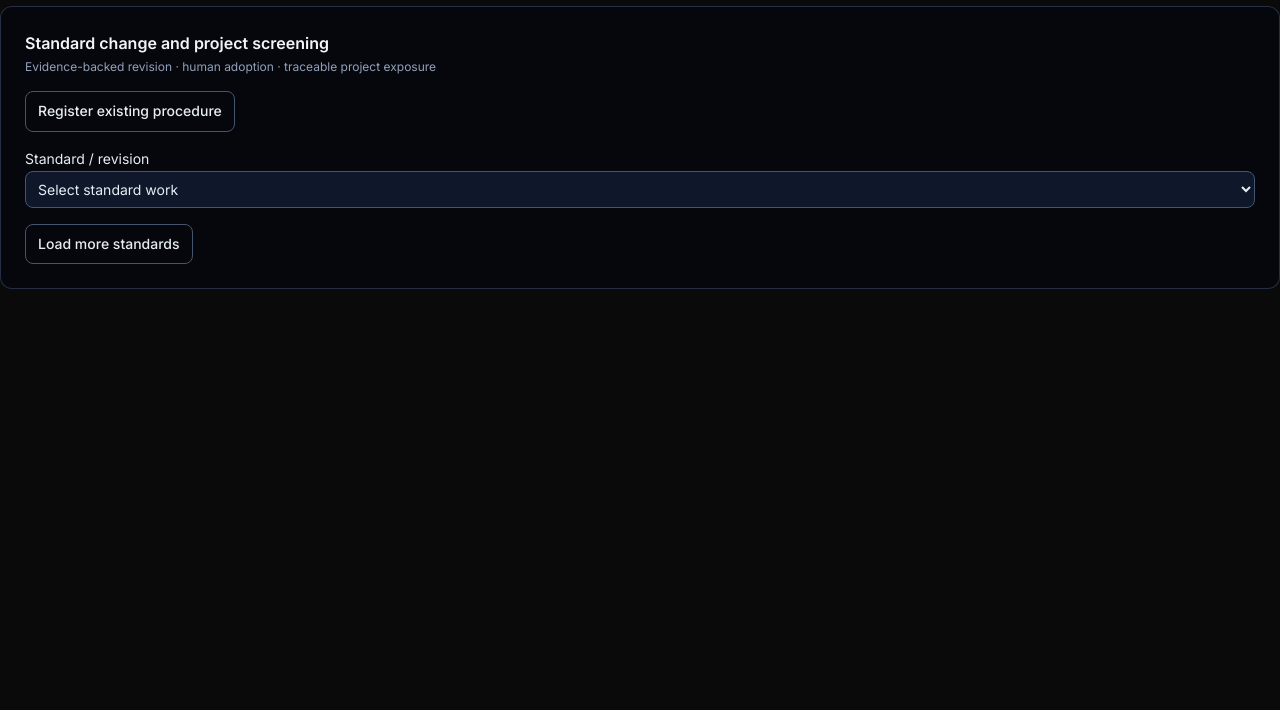
Test: routes an explicitly classified procedure to the governed safety request
Select "estimate · v1 · Estimate review · Baseline" in the dropdown labelled "Standard / revision" at (640, 189), box [25,170,1255,208]
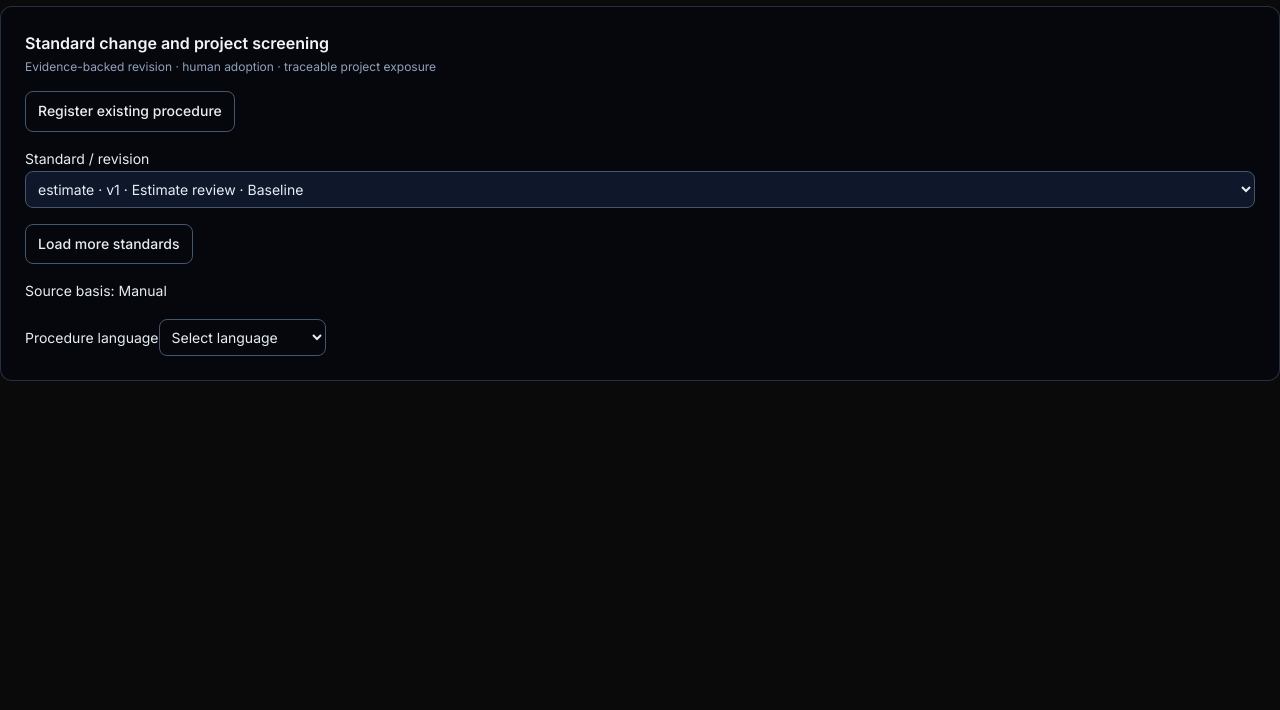
Select "en · human_verified" in the dropdown labelled "Procedure language" at (242, 338), box [158,319,326,356]
(page scrolled)
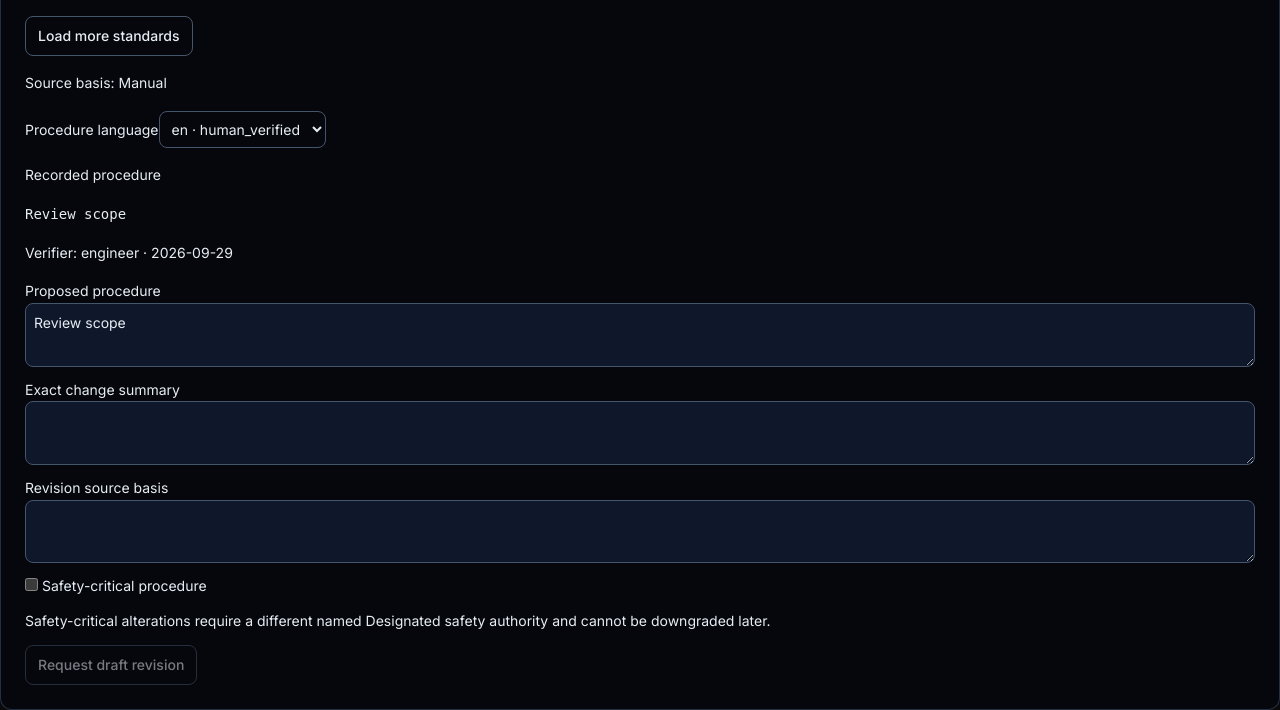
Click the checkbox labelled "Safety-critical procedure".
click(32, 584)  # box [25,578,38,591]
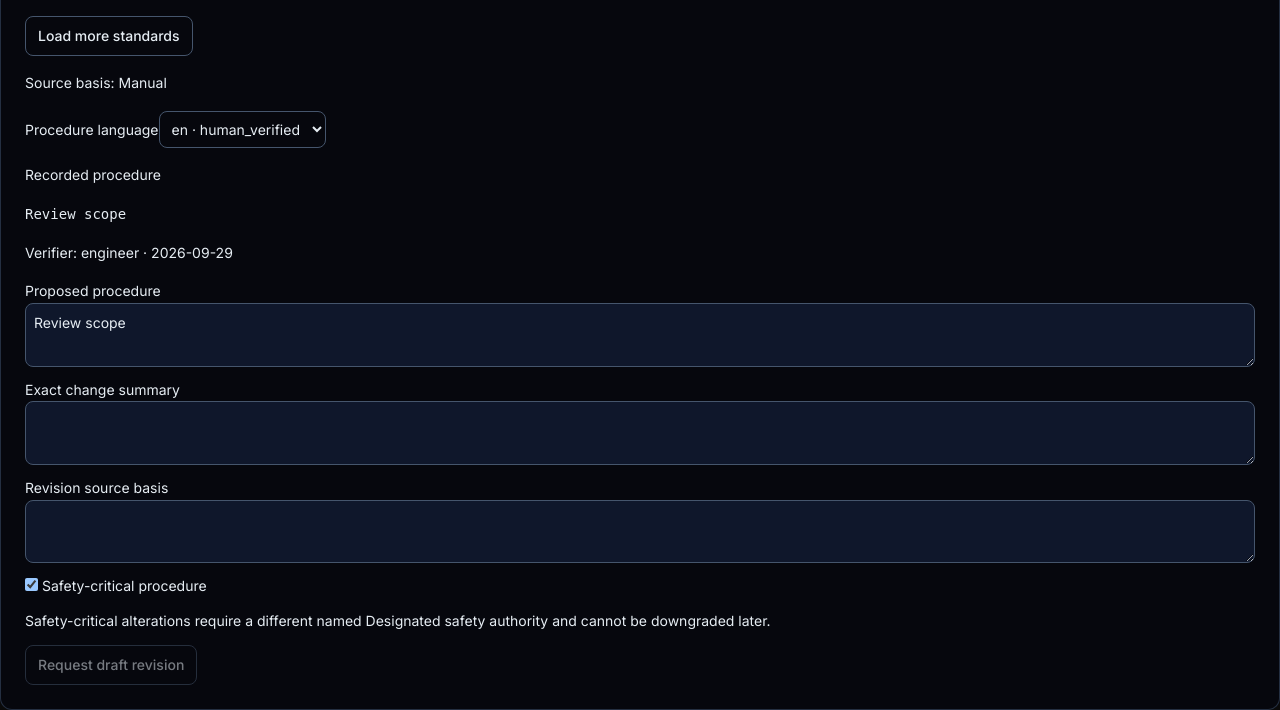
Replace the text in the text box labelled "Proposed procedure" with "Controlled isolation" at (640, 335), box [25,303,1255,366]
Type "Add isolation hold point" into the text box labelled "Exact change summary".
click(640, 433); type("Add isolation hold point")  # box [25,401,1255,465]
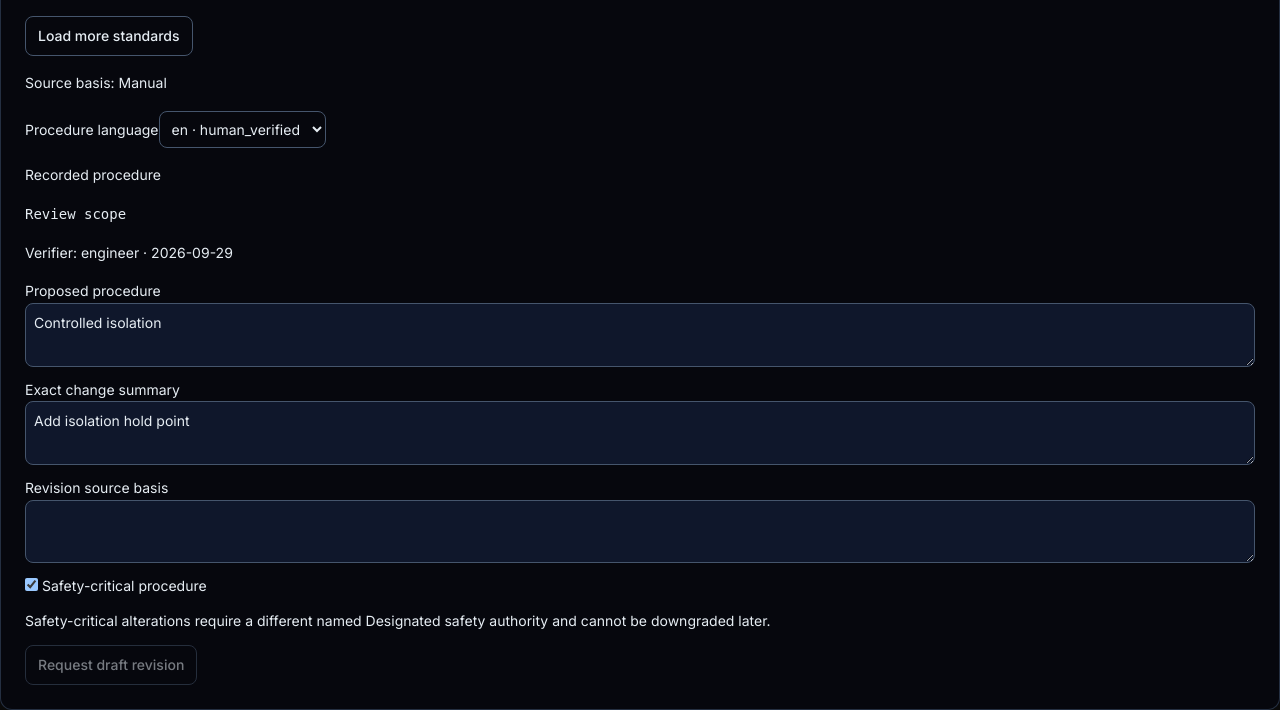
Type "Verified protective-system evidence" into the text box labelled "Revision source basis".
click(640, 531); type("Verified protective-system evidence")  # box [25,500,1255,563]
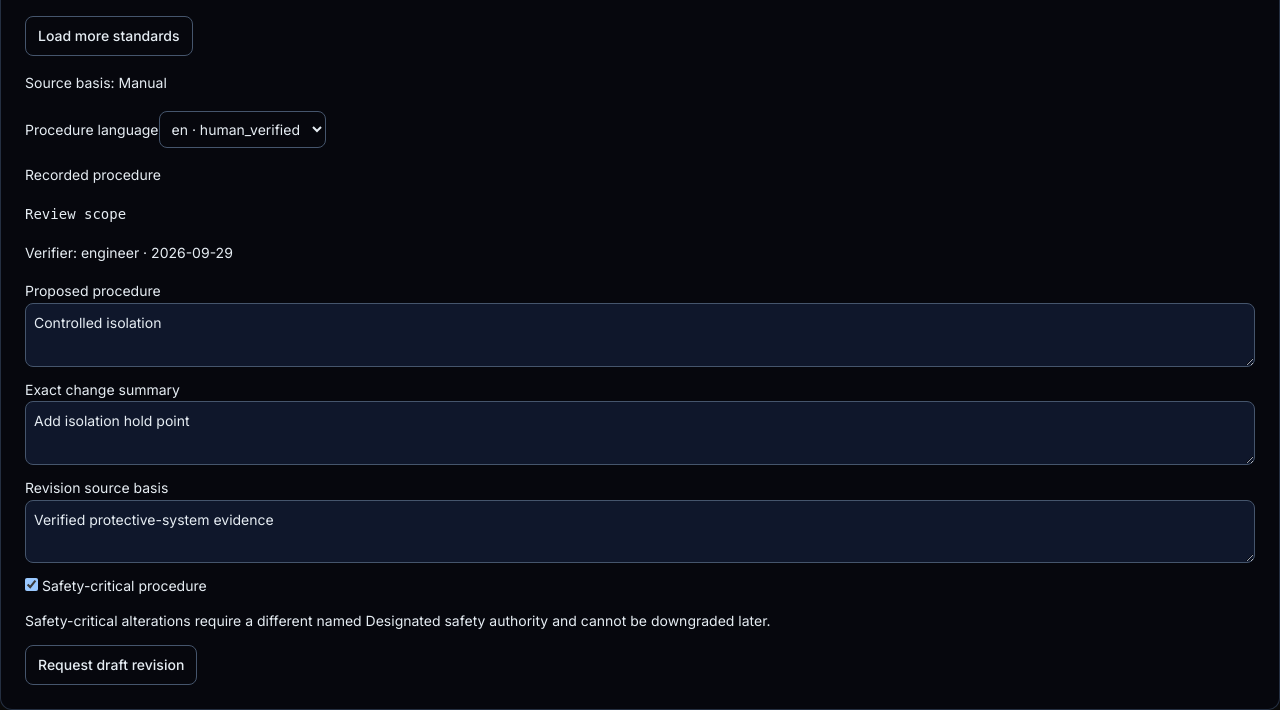
Click the button "Request draft revision".
click(111, 665)  # box [25,644,197,685]
(page scrolled)
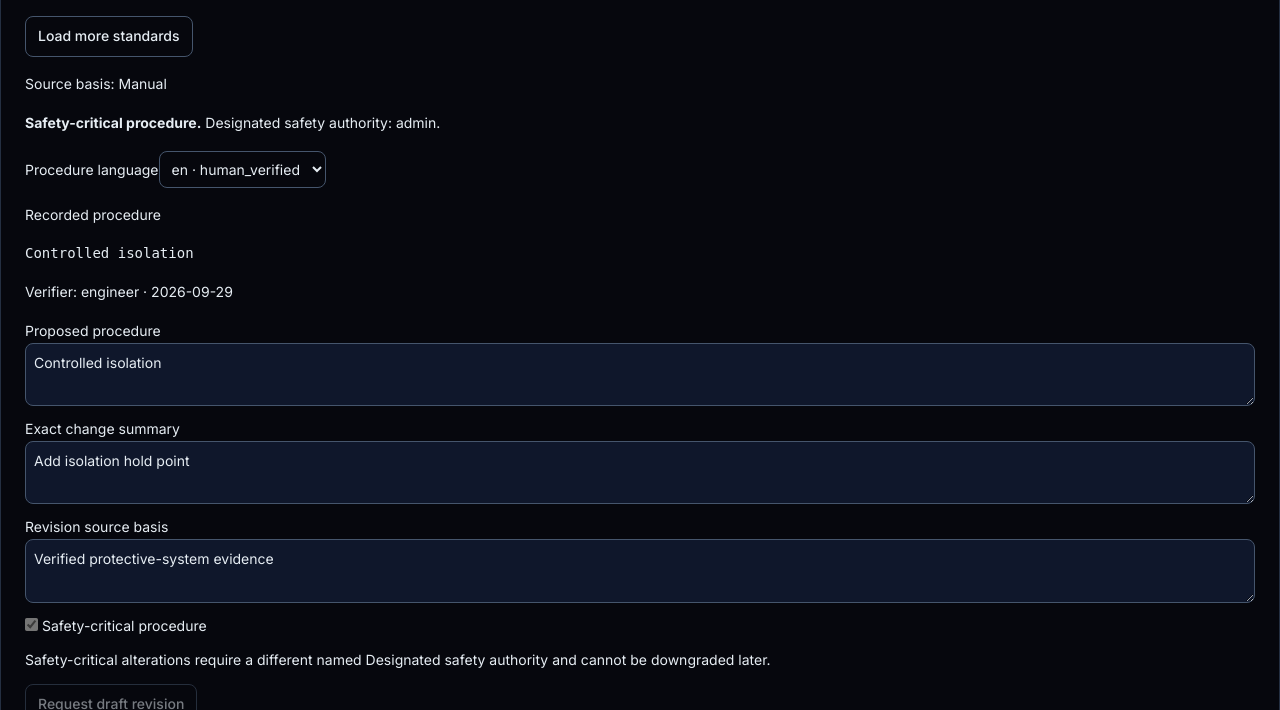
expect the text "Designated safety authority: admin" is shown: met, box [25,114,440,131]
